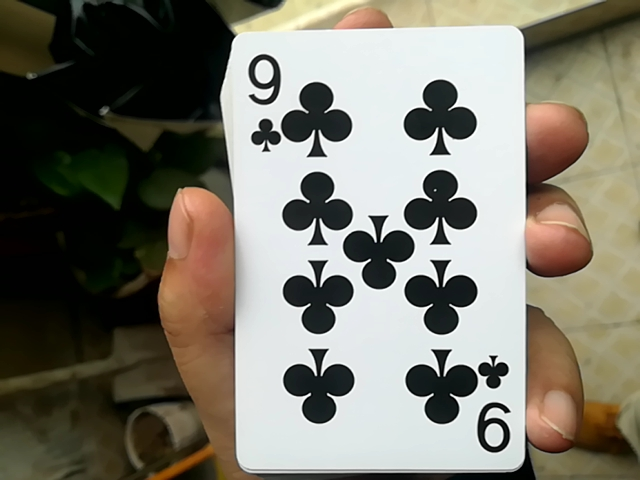mh 9: (210, 13, 527, 470)
